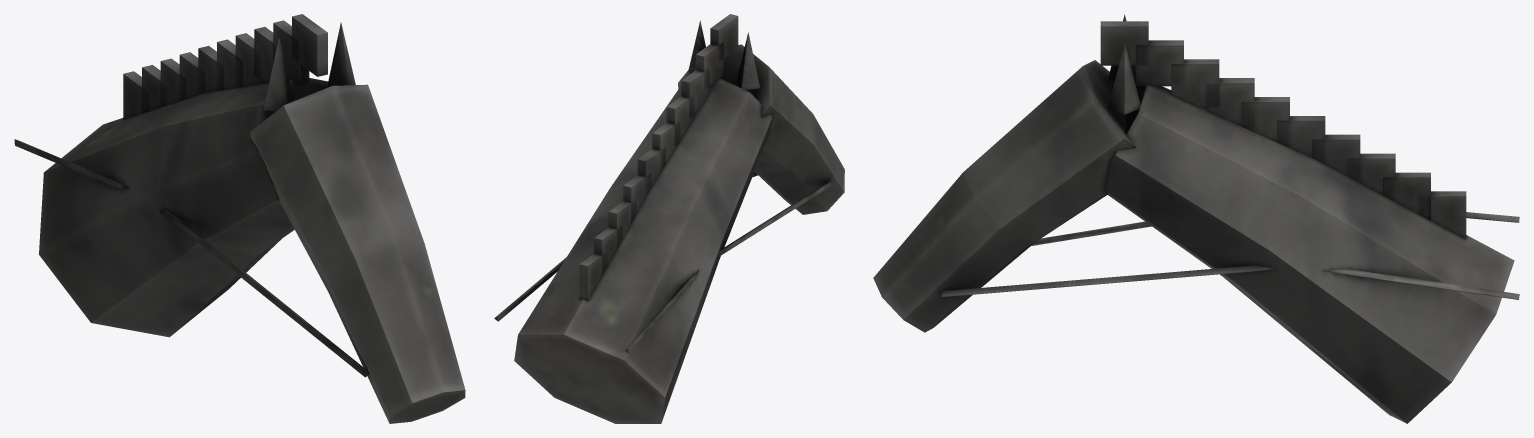
File: cheval.fbx
3 views of the same model, side by side, from view 1: azimuth 30°, elevation 25°; view 2: azimuth 150°, elevation 25°; view 3: azimuth 270°, elevation 25° (orthographic). The views are drawn at different scales.
Parts seen in each view (by area): view 1: cheval; view 2: cheval; view 3: cheval.
Boxes of the visible parts, bbox=[...] form: cheval: bbox=[14, 14, 465, 423]; cheval: bbox=[494, 14, 844, 423]; cheval: bbox=[873, 14, 1519, 423].
Size of the model in its own units: 0.44 by 0.8971 by 1.34.
1 material, 1 textured.
